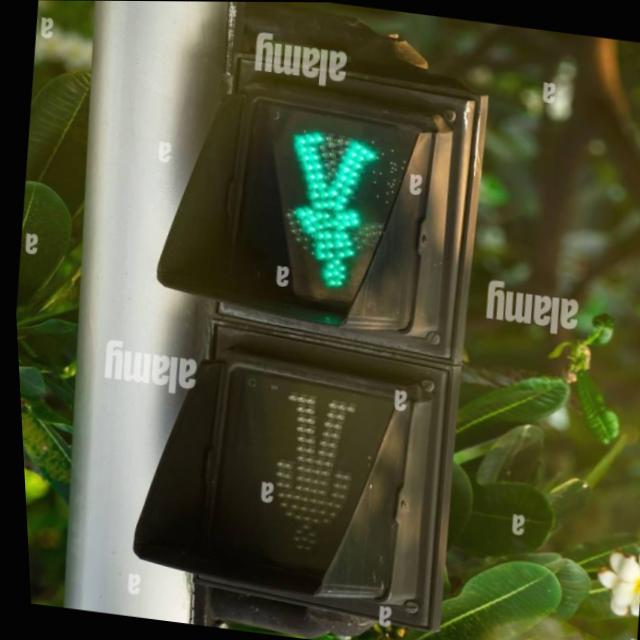green_light: (273, 116, 393, 316)
